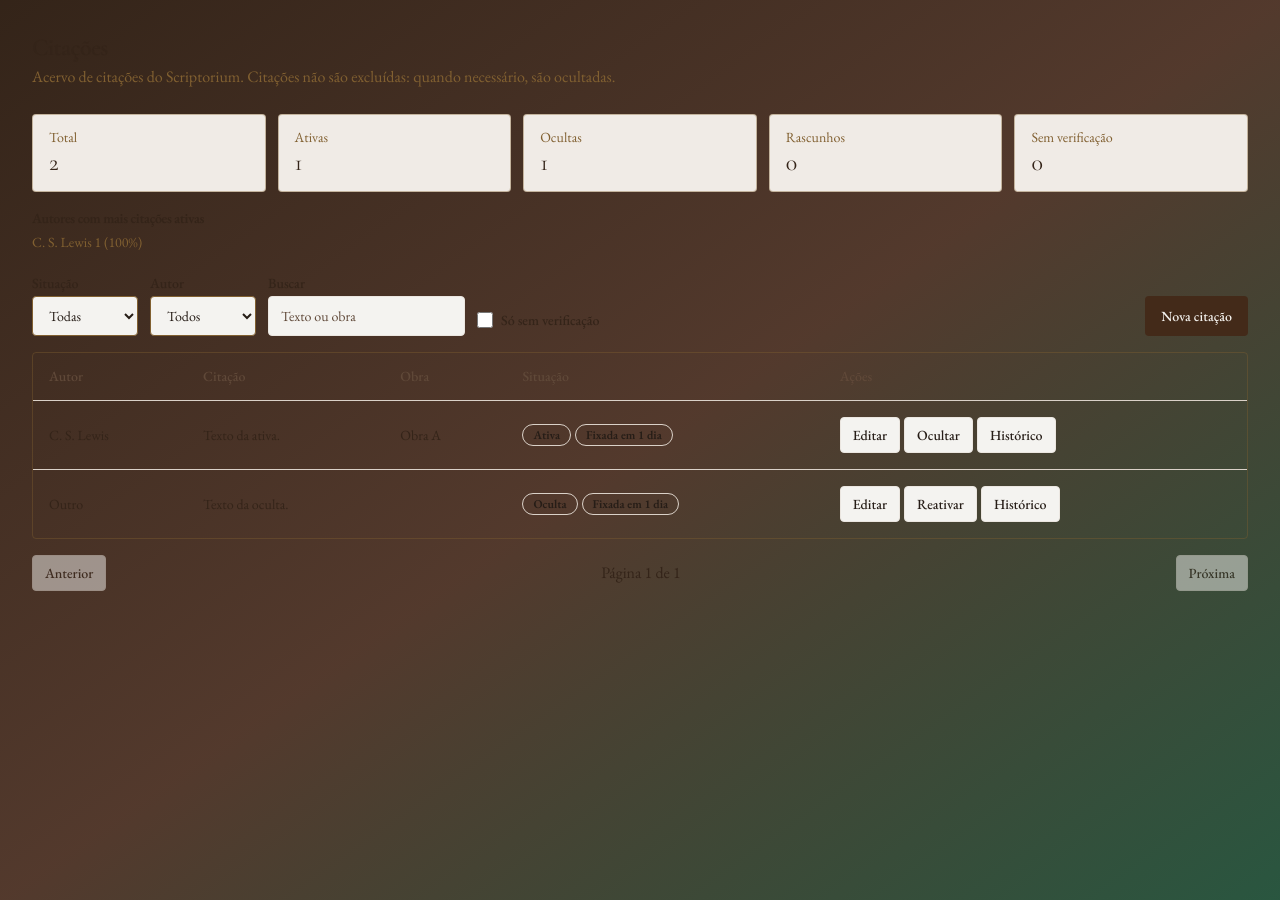
Test: QuotesPanel › Reativar recusada por falta de fonte mostra o erro e abre a edição
What coordinates should you click on to do the following:
click the button with aria-label "Reativar citação de Outro"
I would click on:
 (940, 504)
Its box is left=904, top=486, right=977, bottom=522.
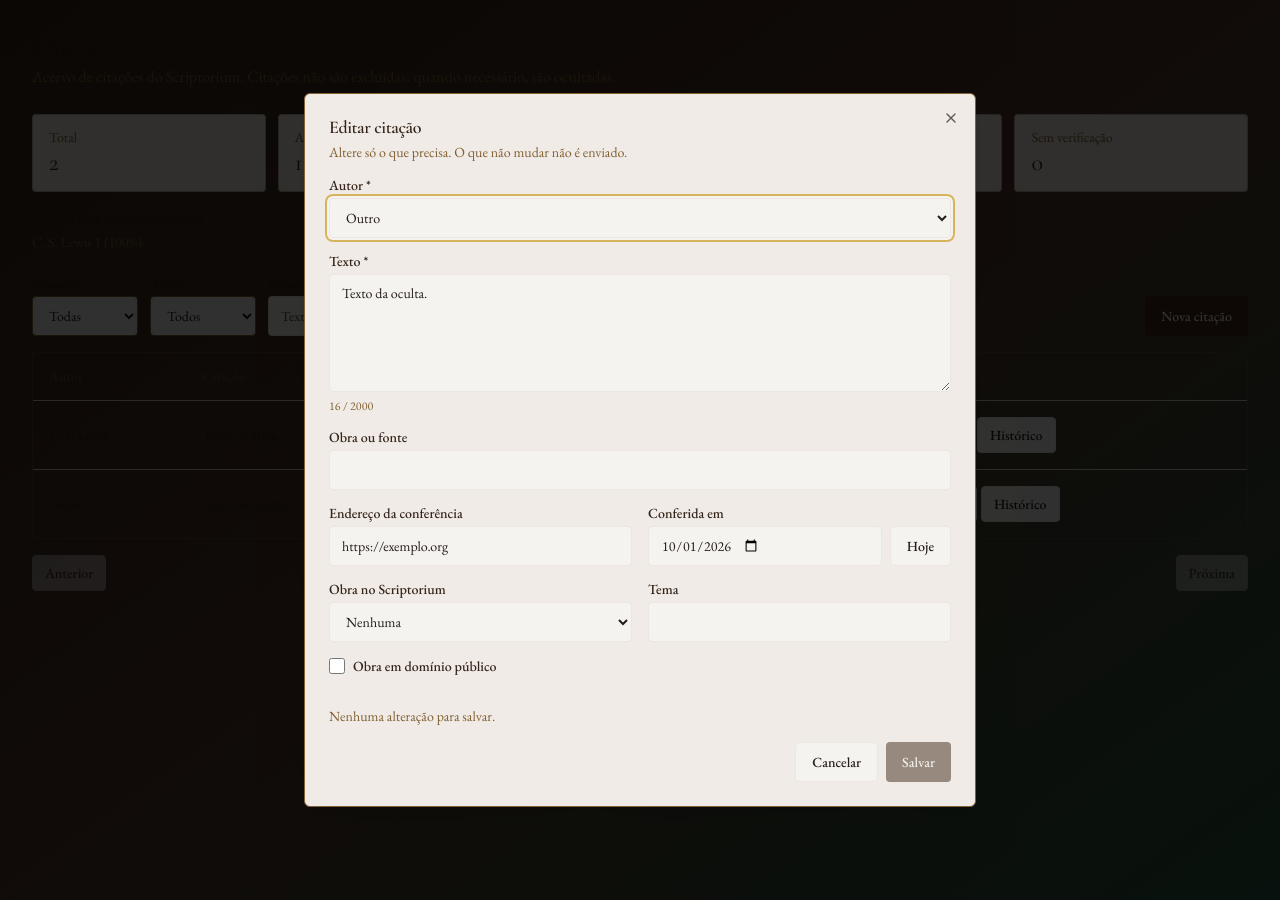
Expected: the dialog "Editar citação" is shown, left=304, top=93, right=976, bottom=807
